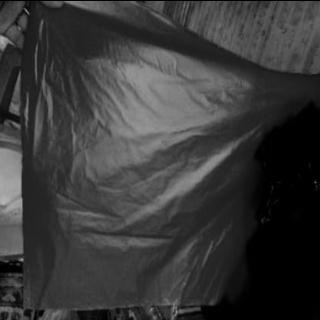objects: (18, 2, 320, 316)
